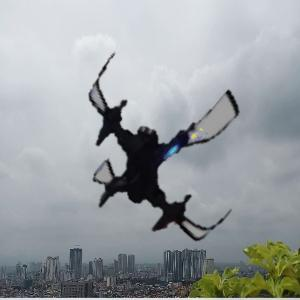drone: (62, 44, 266, 248)
